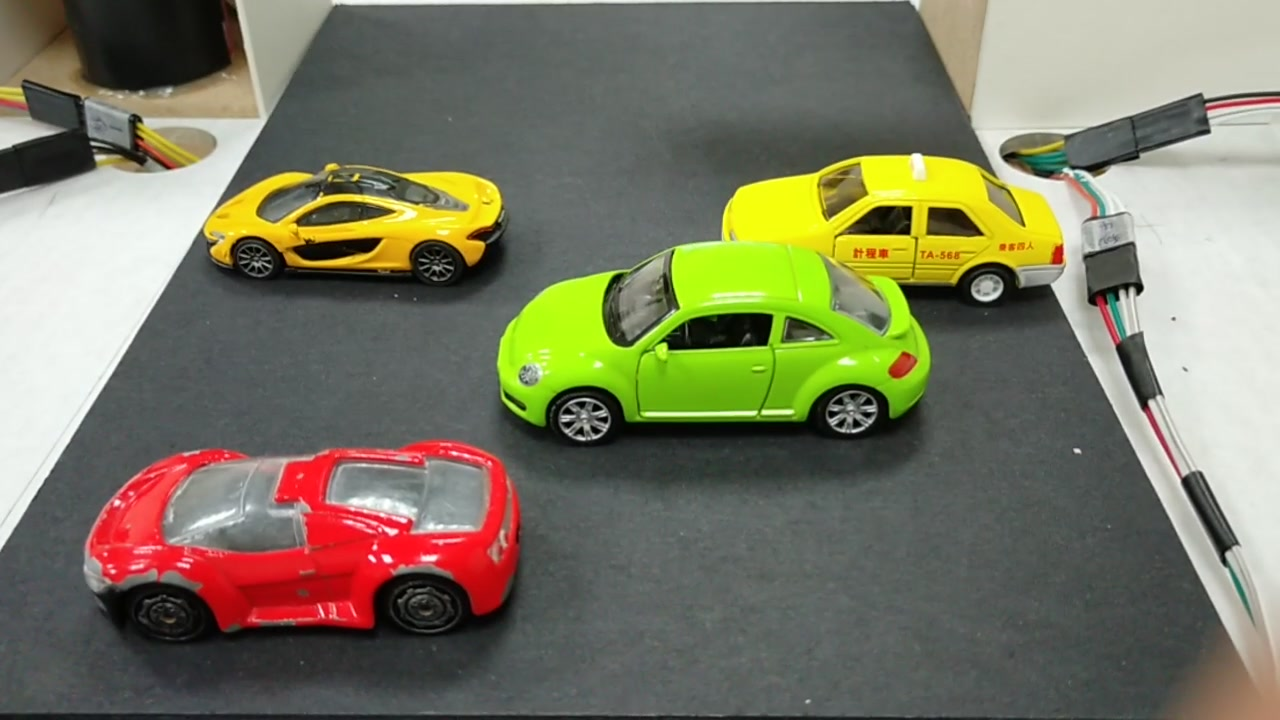car: (495, 241, 931, 436), (91, 448, 515, 628), (725, 153, 1073, 286), (215, 169, 507, 285)
